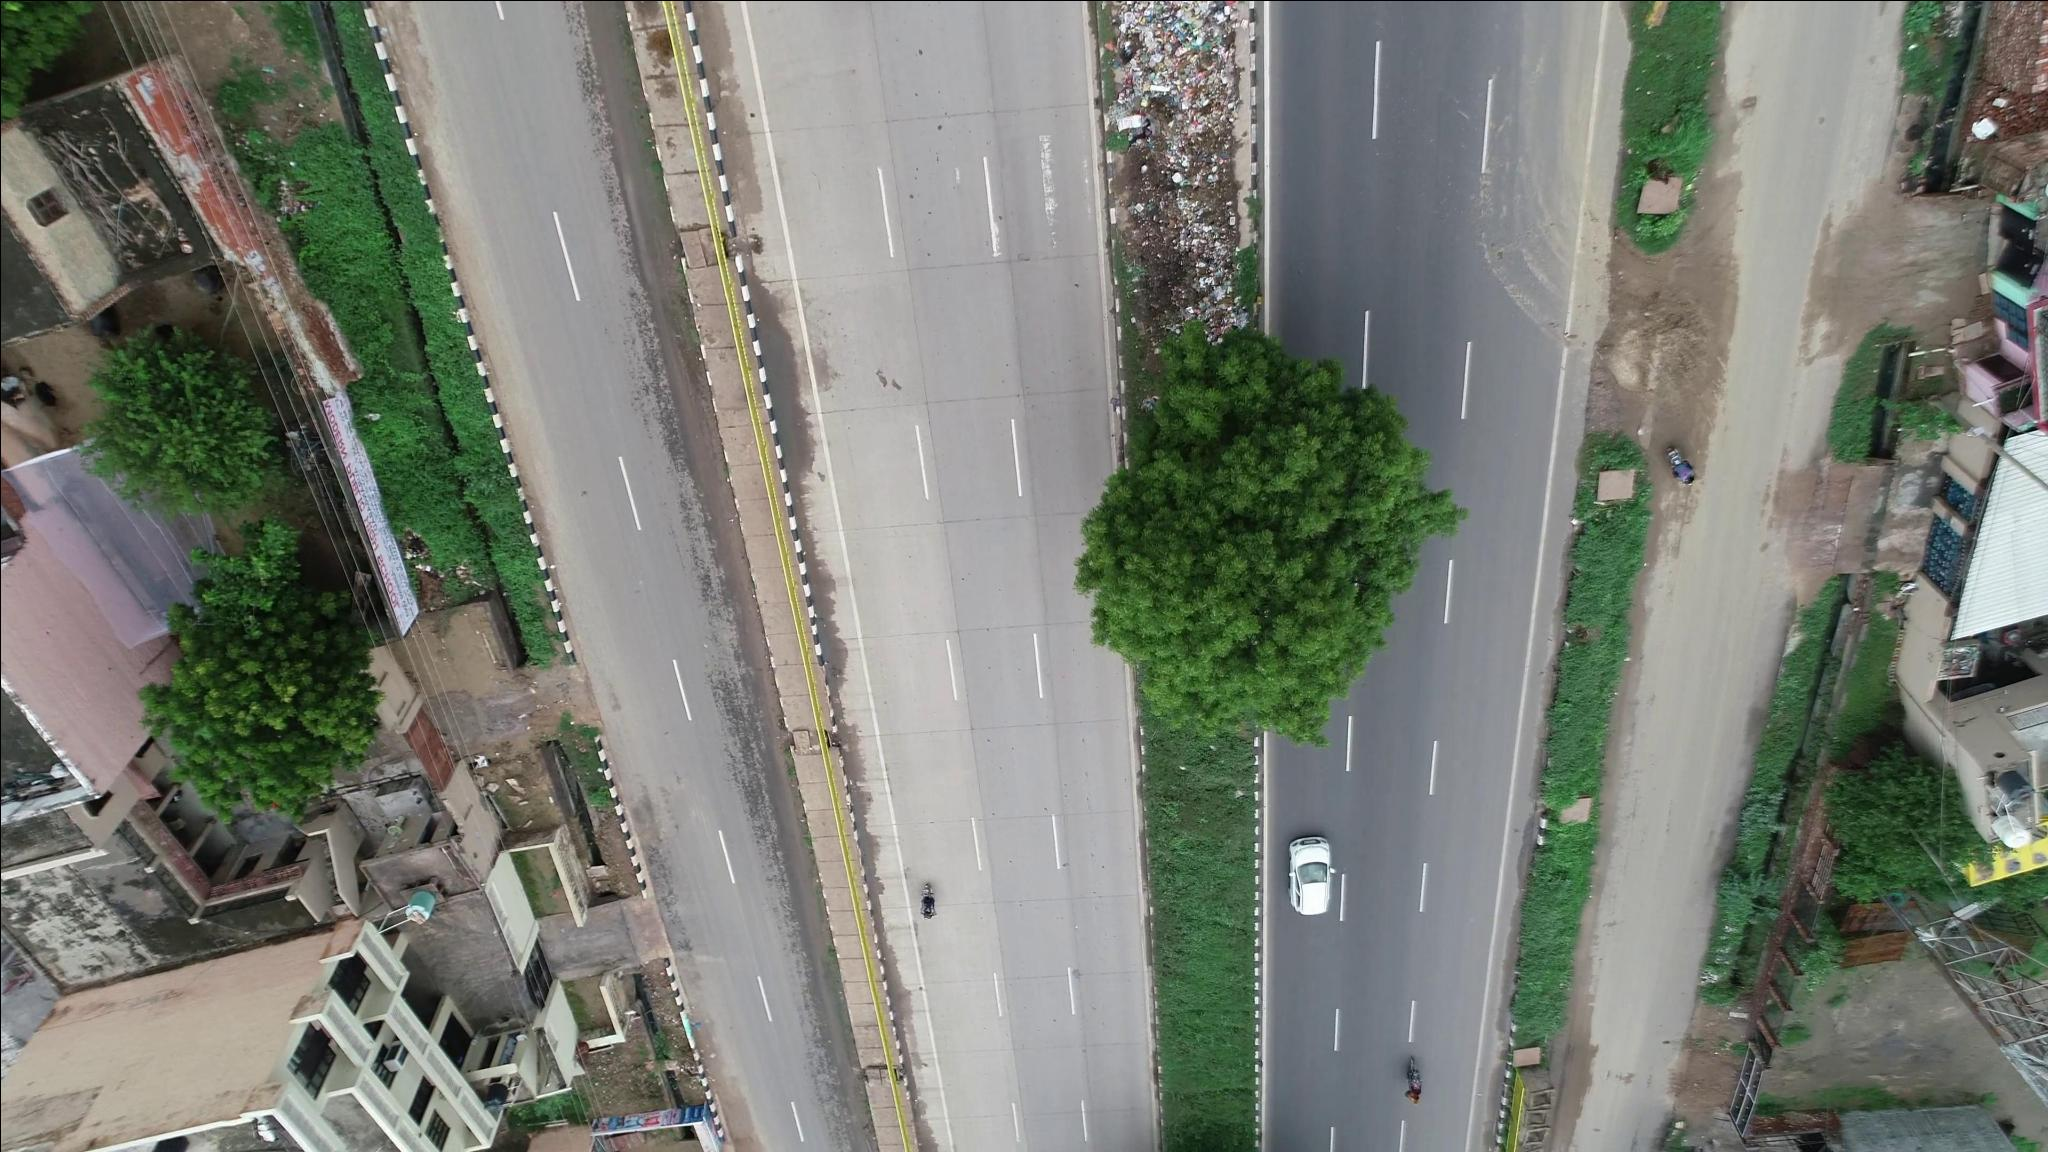Road_side_garbage: (1092, 8, 1280, 329)
